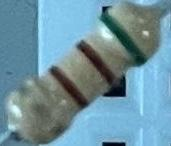Brown: (76, 40, 120, 86), (47, 64, 89, 110)
Green: (101, 12, 150, 67)
Side-Silver: (14, 83, 66, 141)
